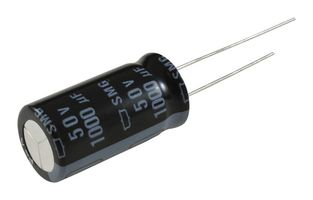capacitor: (6, 32, 204, 196)
